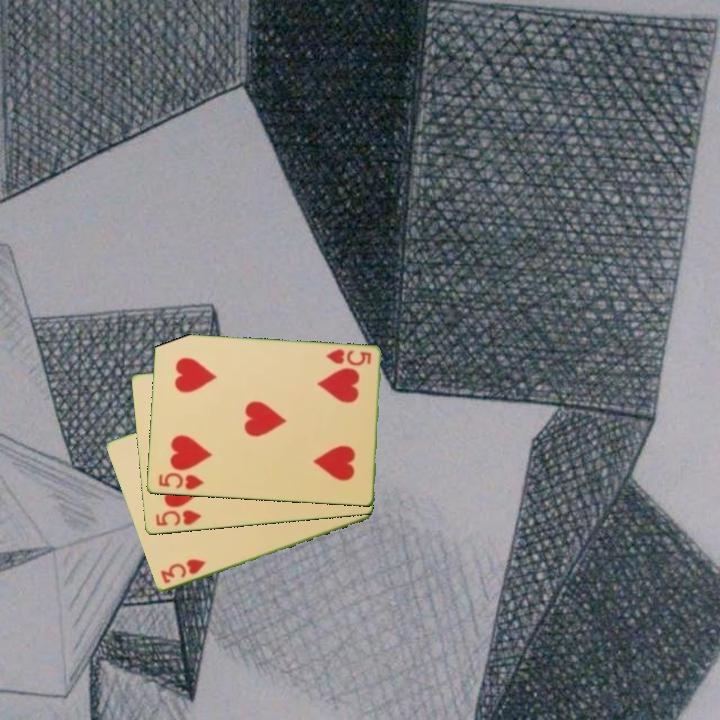3h: (157, 555, 208, 587)
5h: (155, 469, 207, 493), (322, 346, 374, 369), (152, 507, 204, 529)
